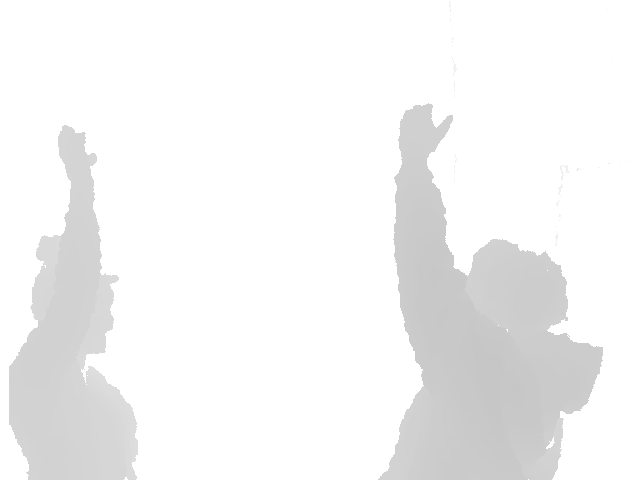hand: (394, 104, 454, 182), (58, 126, 96, 190)
head: (459, 236, 570, 358), (29, 252, 117, 359)
person: (377, 104, 604, 480), (9, 126, 139, 480)
